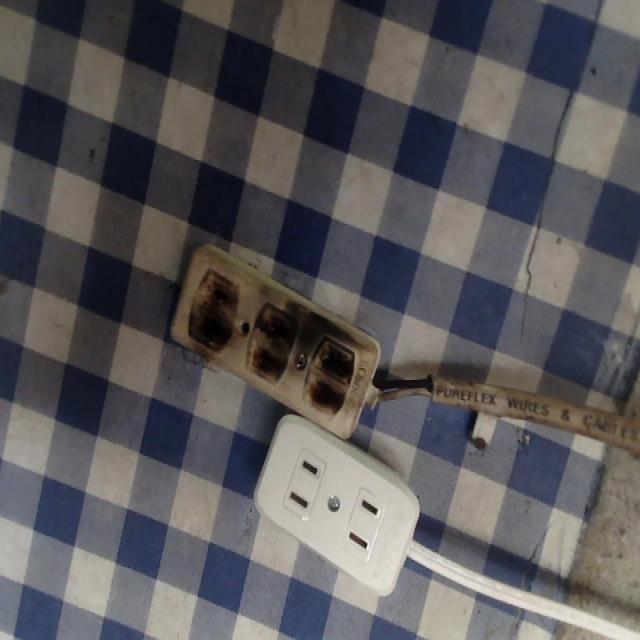-: (186, 258, 243, 354), (301, 331, 358, 426), (241, 297, 298, 384)
